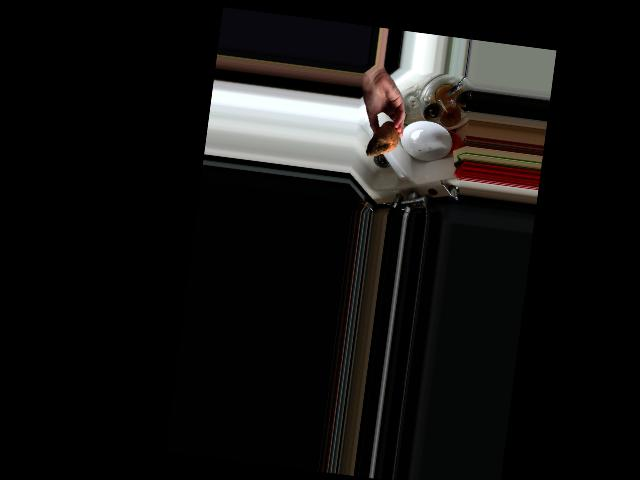sweet_potato: (362, 118, 402, 160)
